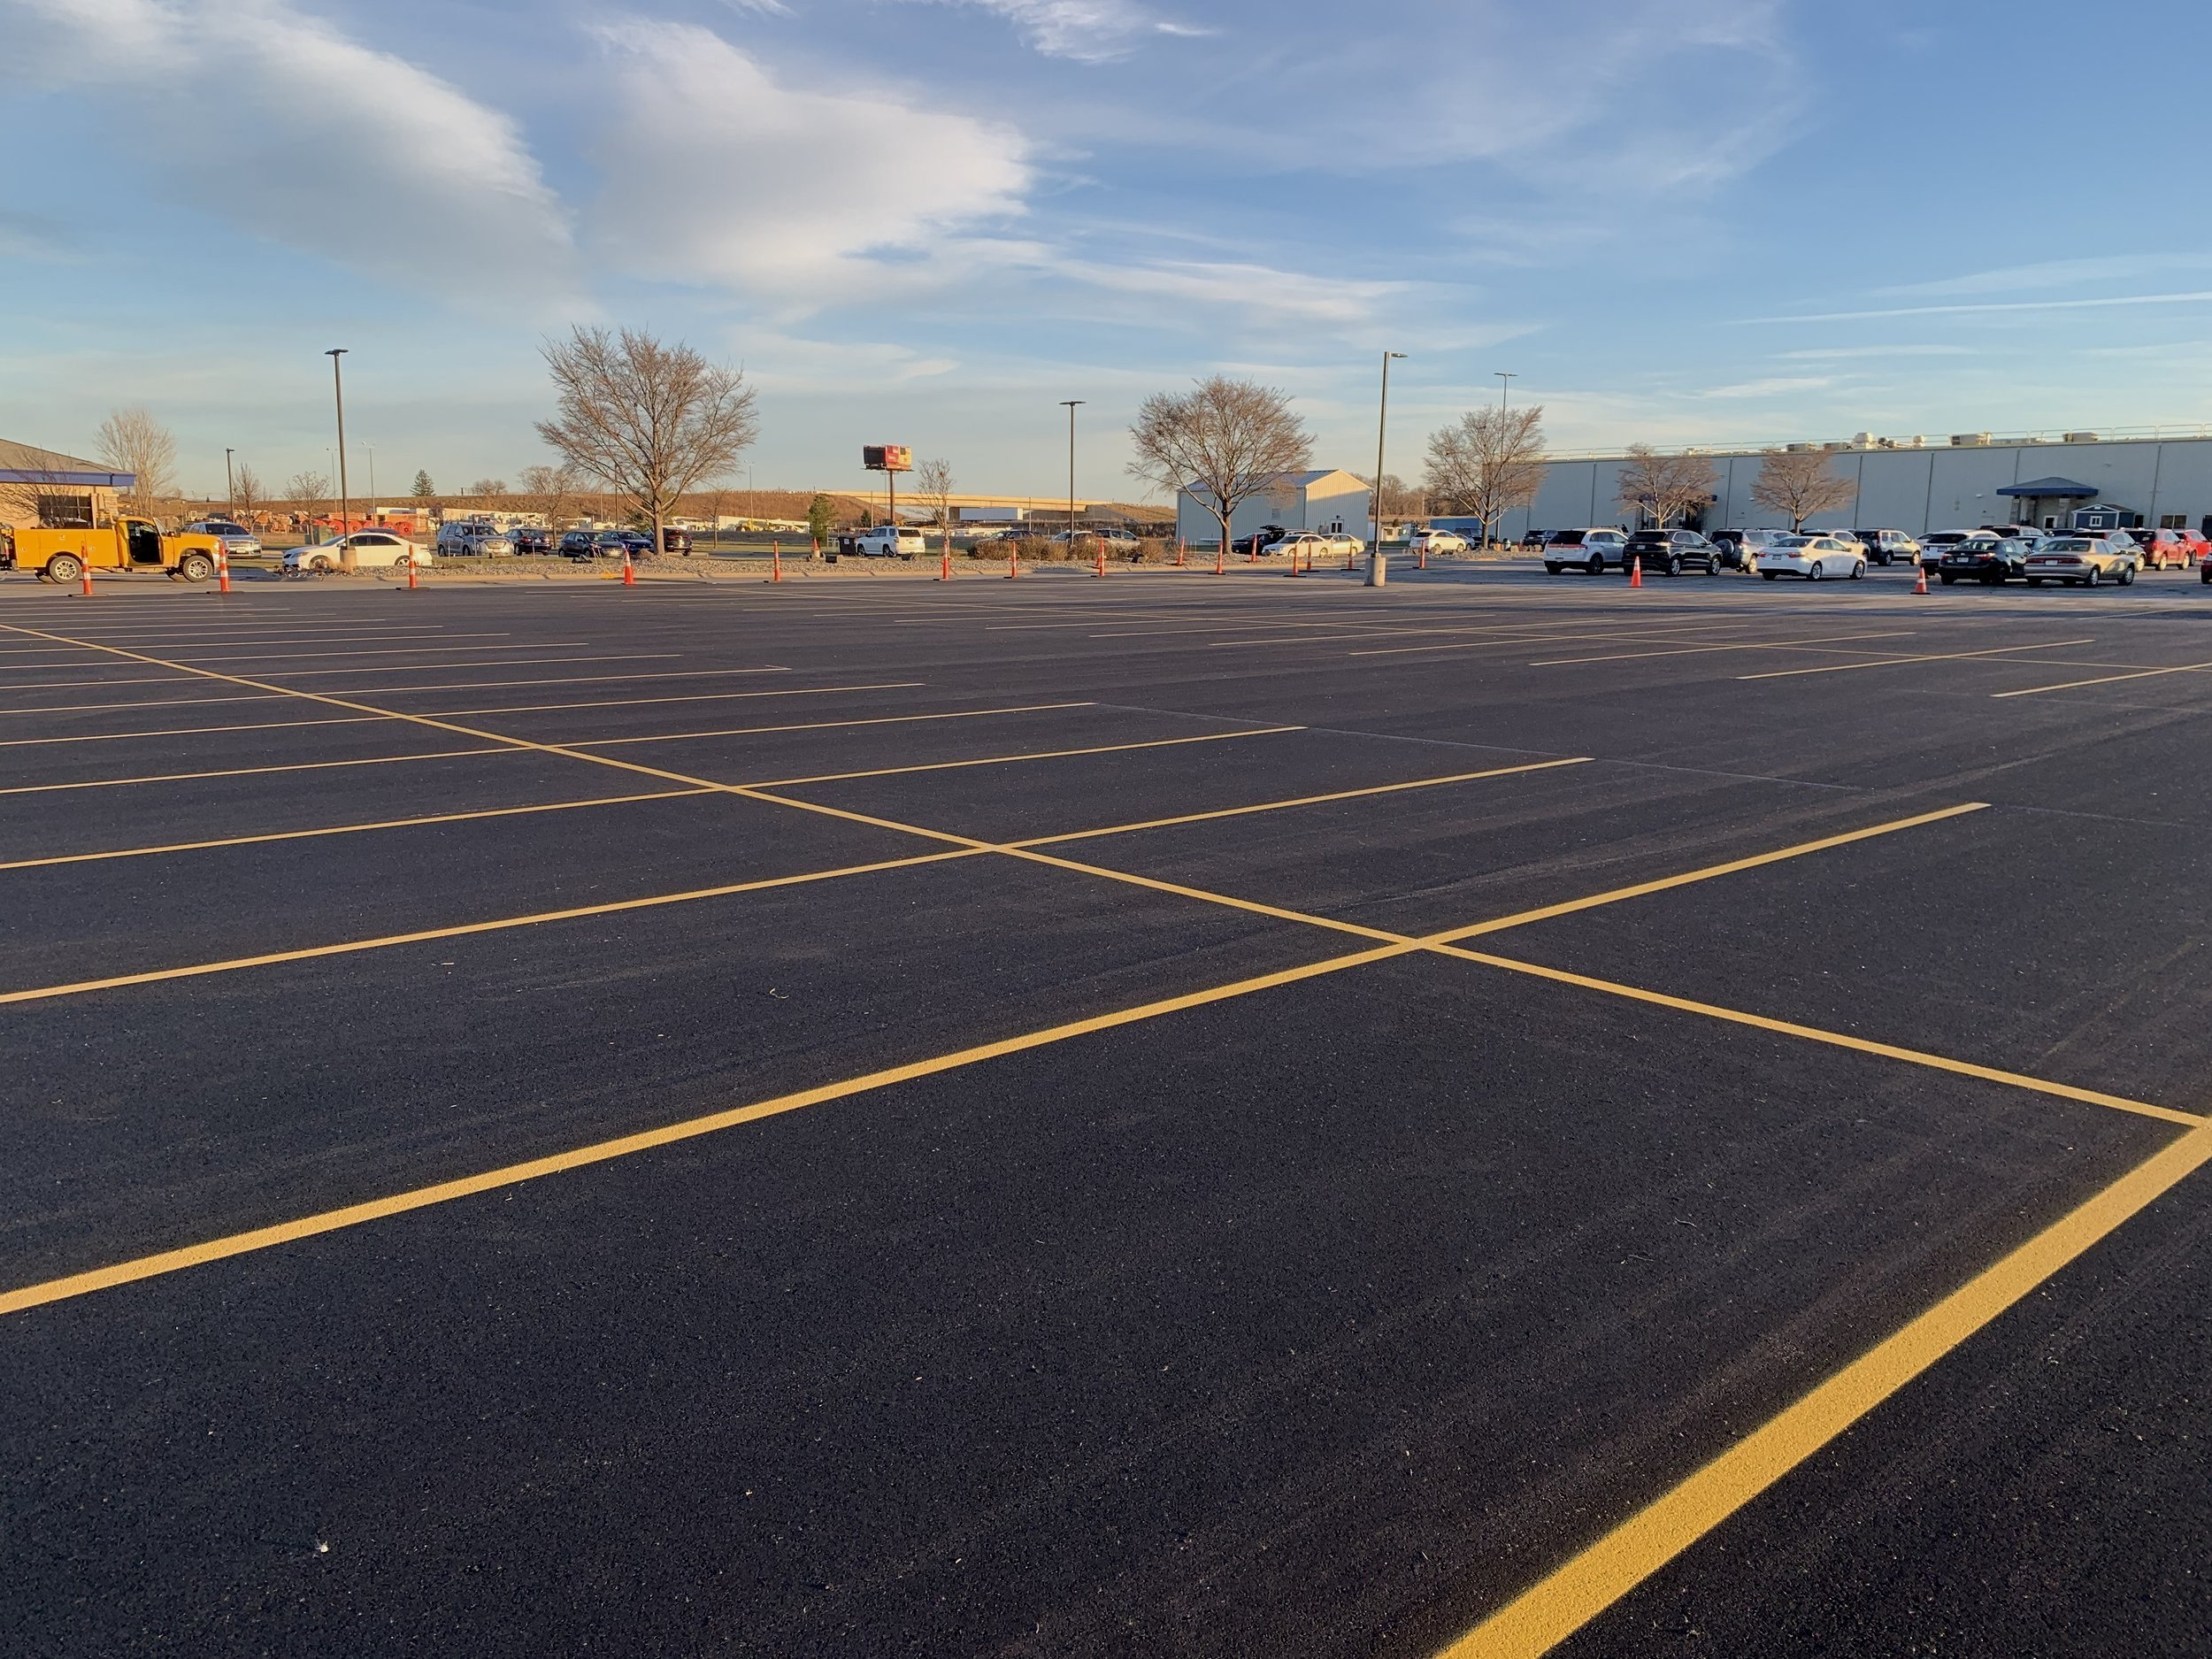Bos: (2, 950, 2212, 1659), (7, 847, 1416, 1295), (1514, 765, 2212, 1223), (1038, 725, 1982, 1026)
